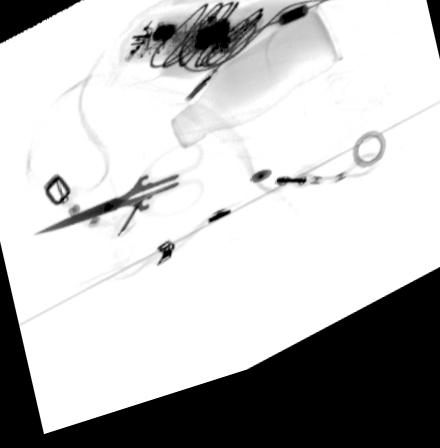Scissors: (31, 150, 205, 238)
